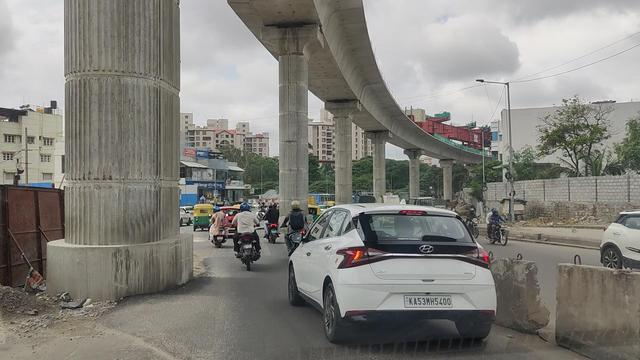LMV: (292, 202, 496, 341), (235, 205, 258, 268), (209, 209, 227, 246), (192, 205, 212, 224)
RoadDamages: (61, 315, 189, 360)
